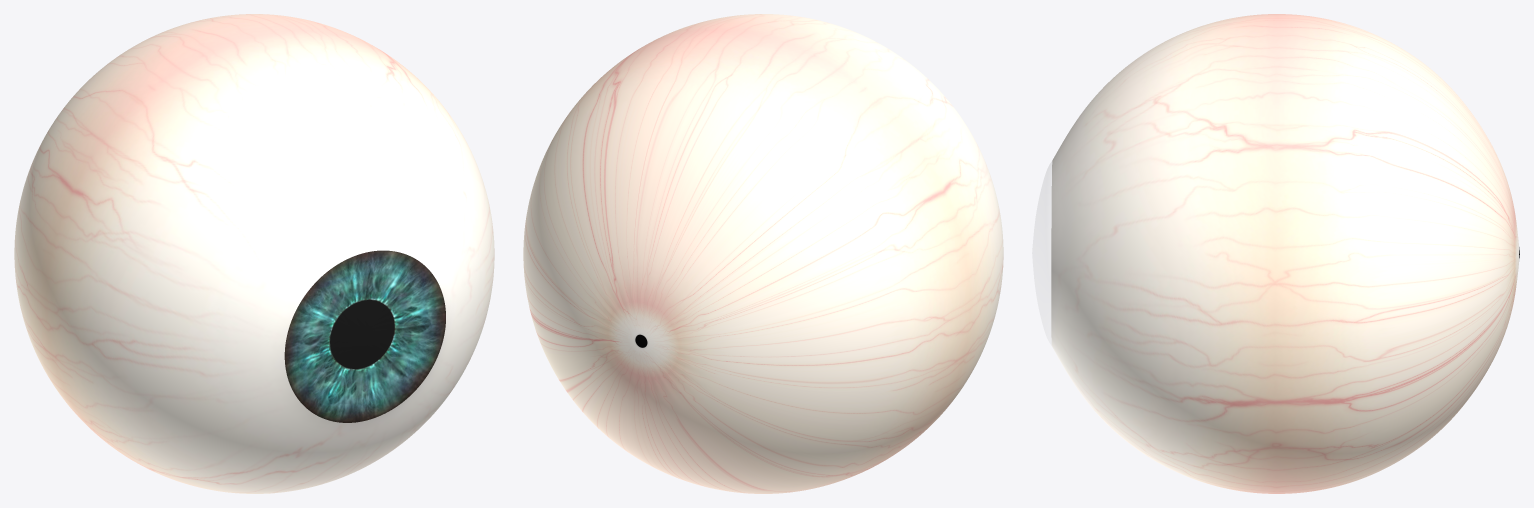
3 renders of one model, left to right at view 1: azimuth 30°, elevation 25°; view 2: azimuth 150°, elevation 25°; view 3: azimuth 270°, elevation 25°, orthographic.
Parts seen in each view (by area): view 1: eyeball_1, eyeball_1.002, eyeball_1.001; view 2: eyeball_1; view 3: eyeball_1, eyeball_1.003.
Boxes of the visible parts, box(x1,y1,x2,y2) form: eyeball_1: box(14, 14, 494, 493); eyeball_1.002: box(284, 250, 445, 422); eyeball_1.001: box(330, 300, 394, 368); eyeball_1: box(523, 14, 1003, 493); eyeball_1: box(1051, 14, 1519, 493); eyeball_1.003: box(1032, 162, 1051, 343).
Size of the model in its own units: 3.86 by 3.86 by 3.92.
Materials: 4 (4 with a texture image).
